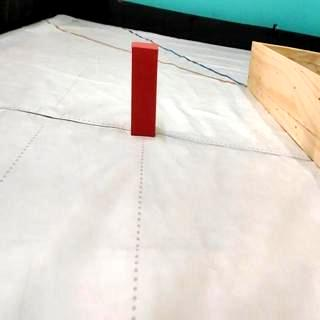redbox: (130, 41, 158, 136)
